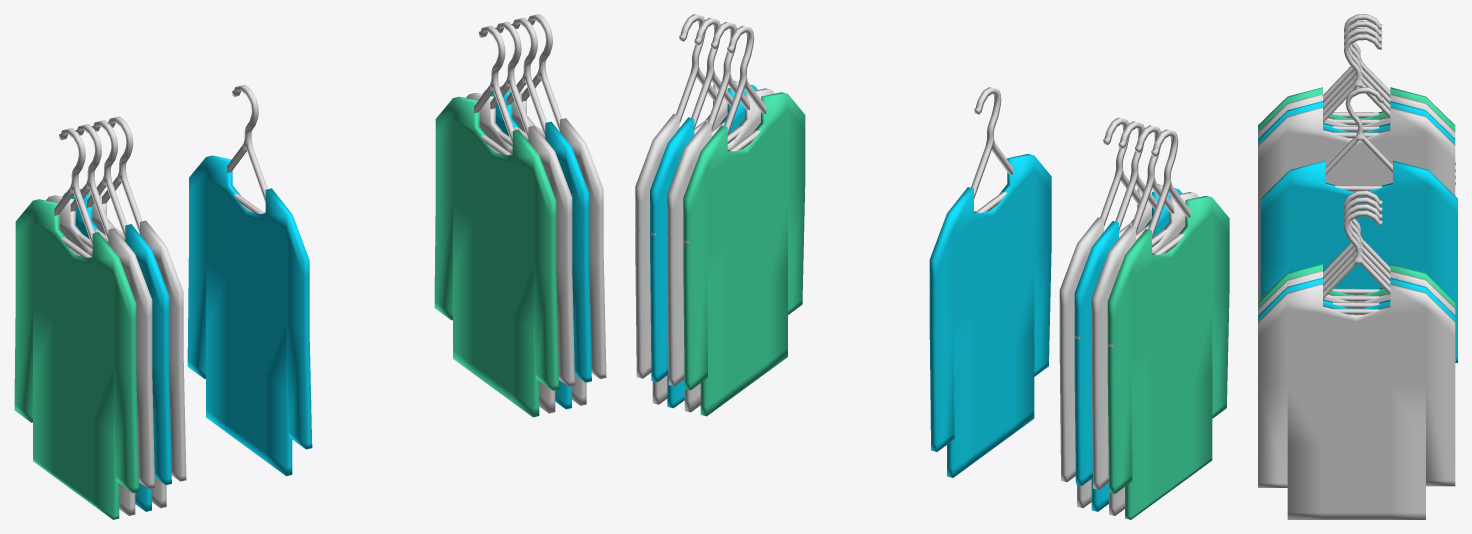
The model's file is HangingShirts.fbx.
3 views of the same model, side by side, from view 1: azimuth 30°, elevation 25°; view 2: azimuth 150°, elevation 25°; view 3: azimuth 270°, elevation 25° (orthographic). The views are drawn at different scales.
Parts seen in each view (by area): view 1: HangingShirt.005, HangingShirt.009, HangingShirt.001, HangingShirt.008, HangingShirt.004, HangingShirt.007, HangingShirt.003, HangingShirt.002, HangingShirt.006, Hanger.005, Hanger.009, Hanger.001 (+6 smaller); view 2: HangingShirt.005, HangingShirt.009, HangingShirt.001, HangingShirt.008, HangingShirt.004, HangingShirt.007, HangingShirt.003, HangingShirt.002, HangingShirt.006, Hanger.001, Hanger.005, Hanger.009 (+6 smaller); view 3: HangingShirt.006, HangingShirt.001, HangingShirt.002, Hanger.009, Hanger.004, HangingShirt.008, HangingShirt.004, Hanger.008, HangingShirt.003, HangingShirt.009, HangingShirt.007, HangingShirt.005 (+6 smaller).
Boxes of the visible parts, x1=… form: HangingShirt.005: x1=14, y1=199, x2=138, y2=519; HangingShirt.009: x1=434, y1=96, x2=558, y2=417; HangingShirt.001: x1=187, y1=155, x2=312, y2=476; HangingShirt.008: x1=466, y1=93, x2=574, y2=413; HangingShirt.004: x1=46, y1=195, x2=154, y2=515; HangingShirt.007: x1=482, y1=90, x2=591, y2=409; HangingShirt.003: x1=62, y1=193, x2=171, y2=511; HangingShirt.002: x1=80, y1=188, x2=186, y2=508; HangingShirt.006: x1=499, y1=86, x2=606, y2=405; Hanger.005: x1=54, y1=128, x2=94, y2=257; Hanger.009: x1=227, y1=85, x2=267, y2=213; Hanger.001: x1=474, y1=25, x2=514, y2=155; HangingShirt.005: x1=1107, y1=196, x2=1229, y2=519; HangingShirt.009: x1=683, y1=92, x2=805, y2=416; HangingShirt.001: x1=929, y1=154, x2=1051, y2=477; HangingShirt.008: x1=667, y1=88, x2=774, y2=412; HangingShirt.004: x1=1091, y1=192, x2=1198, y2=515; HangingShirt.007: x1=650, y1=84, x2=757, y2=408; HangingShirt.003: x1=1074, y1=188, x2=1182, y2=511; HangingShirt.002: x1=1059, y1=184, x2=1162, y2=507; HangingShirt.006: x1=635, y1=80, x2=738, y2=404; Hanger.001: x1=684, y1=25, x2=766, y2=243; Hanger.005: x1=1108, y1=129, x2=1190, y2=347; Hanger.009: x1=971, y1=87, x2=1012, y2=212; HangingShirt.006: x1=1258, y1=283, x2=1455, y2=519; HangingShirt.001: x1=1260, y1=160, x2=1457, y2=362; HangingShirt.002: x1=1258, y1=107, x2=1455, y2=301; Hanger.009: x1=1325, y1=87, x2=1392, y2=191; Hanger.004: x1=1323, y1=210, x2=1455, y2=361; HangingShirt.008: x1=1258, y1=270, x2=1455, y2=314; HangingShirt.004: x1=1258, y1=94, x2=1455, y2=138; Hanger.008: x1=1323, y1=34, x2=1455, y2=185; HangingShirt.003: x1=1258, y1=101, x2=1455, y2=144; HangingShirt.009: x1=1258, y1=264, x2=1455, y2=307; HangingShirt.007: x1=1258, y1=277, x2=1455, y2=321; HangingShirt.005: x1=1258, y1=87, x2=1455, y2=131.
Size of the model in its own units: 131 by 93.24 by 54.94.
